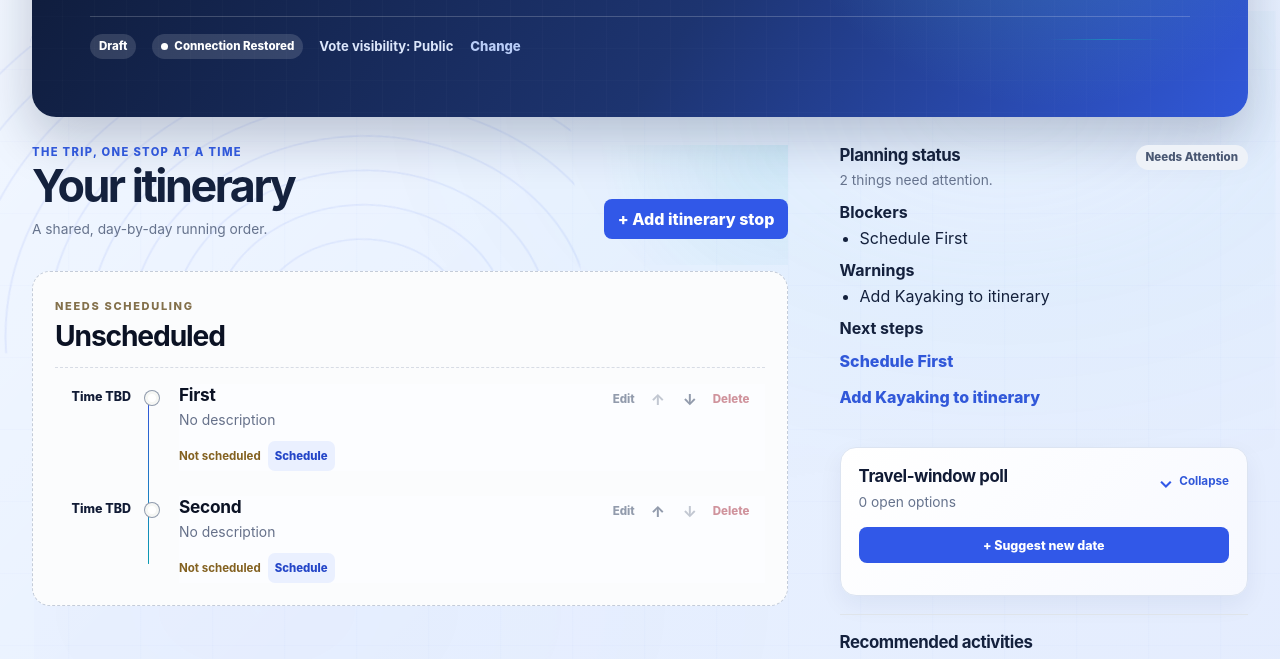
Test case: Phase 1B.5 planning UI › renders planning status and routes its schedule action into the existing scheduling flow
(page scrolled)
Expected: the heading "Planning status" is shown, [840,145,960,165]
Expected: the button "Add Kayaking to itinerary" is shown, [840,381,1248,412]
Click the button "Schedule First".
click(896, 361)  # box [840,345,1248,376]
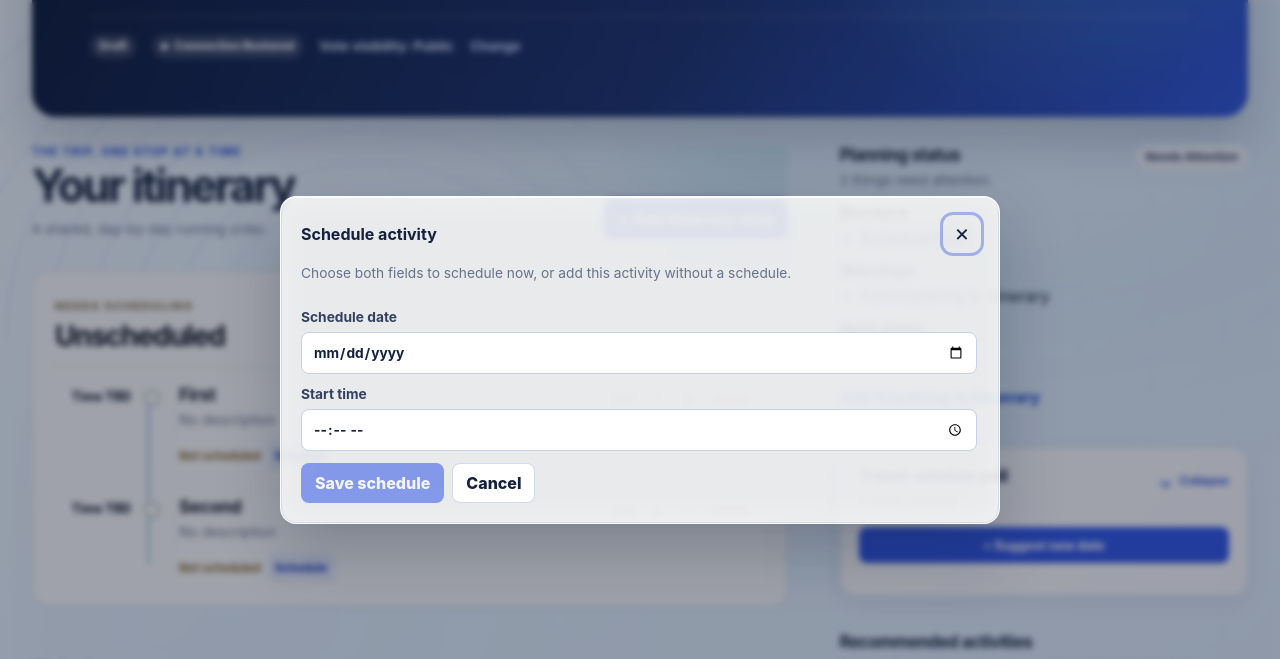
Result: the dialog "Schedule activity" is shown at [280,196,1000,524]
